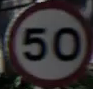Speed limit: (6, 5, 89, 79)
